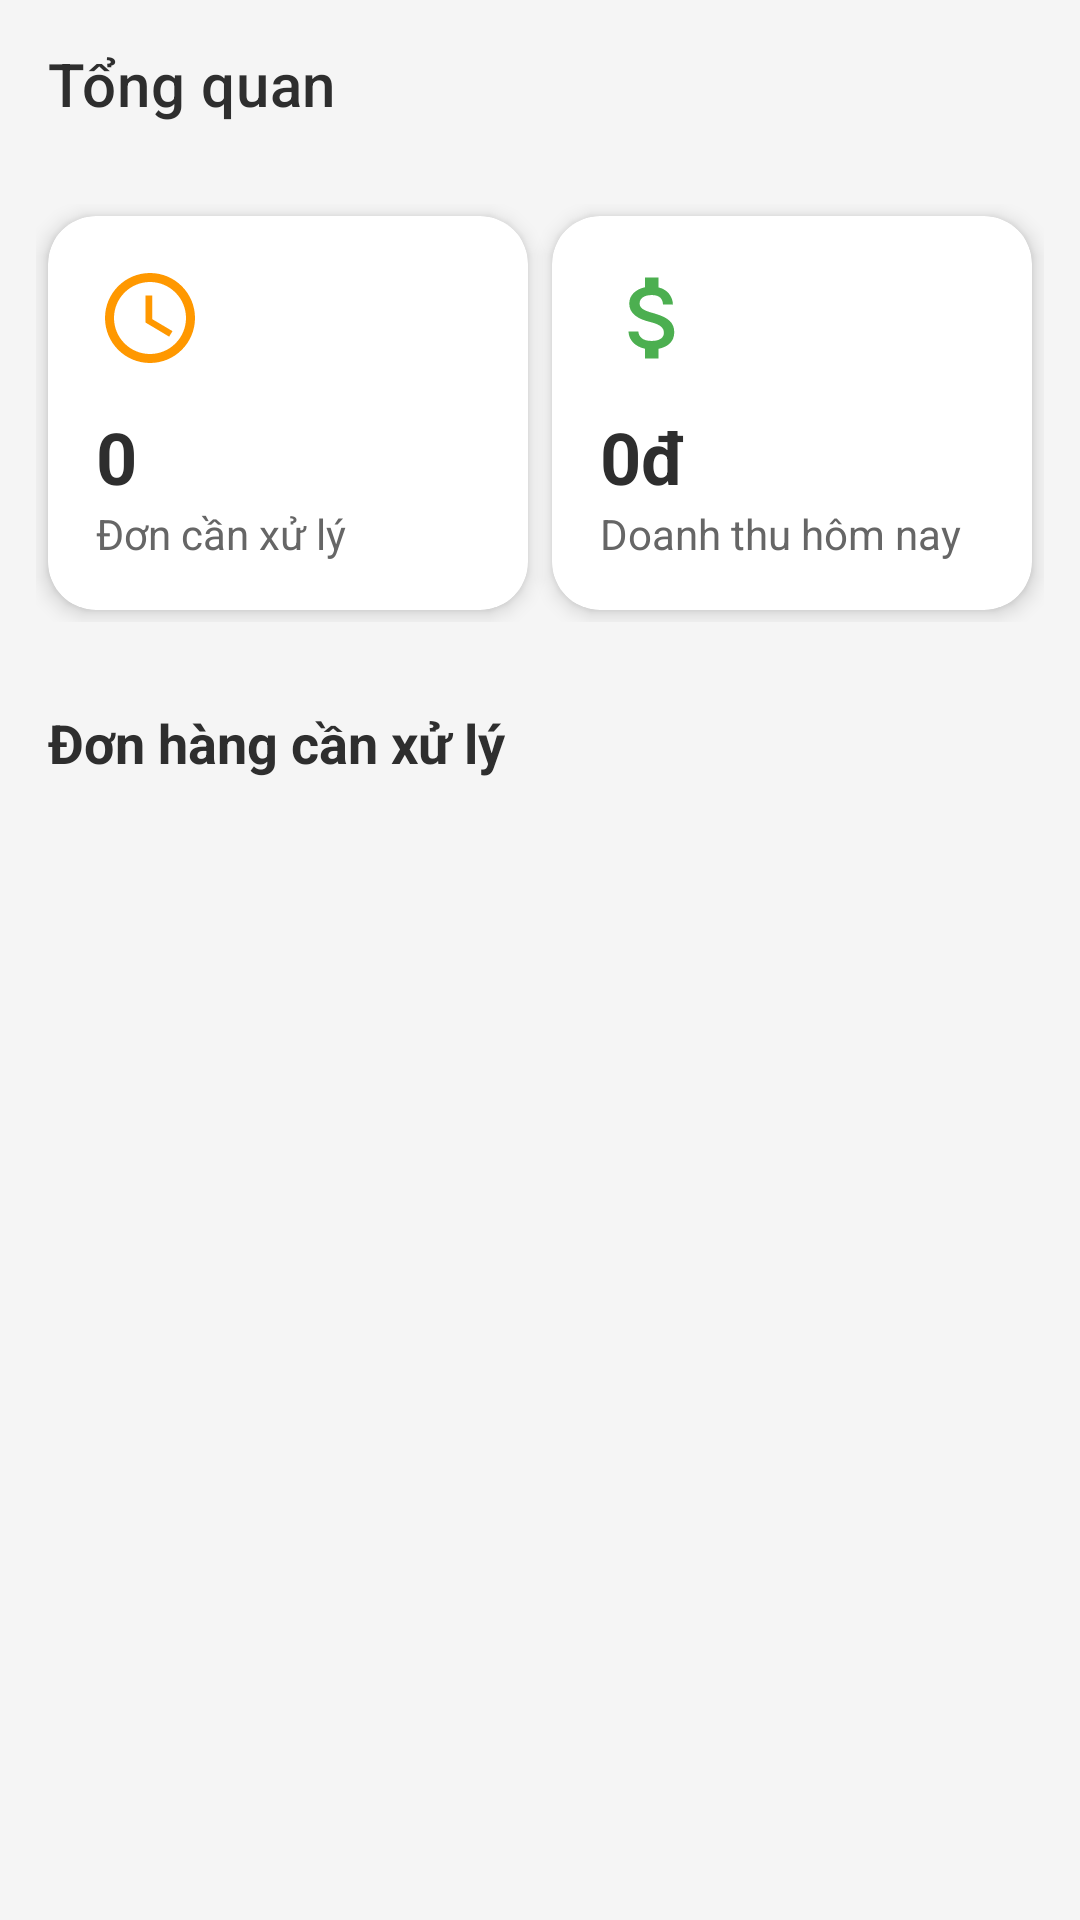

Icon click points for this 1080×1920 phone screenshot, format [x,y]:
pending orders: [150,318]
revenue: [651,318]
